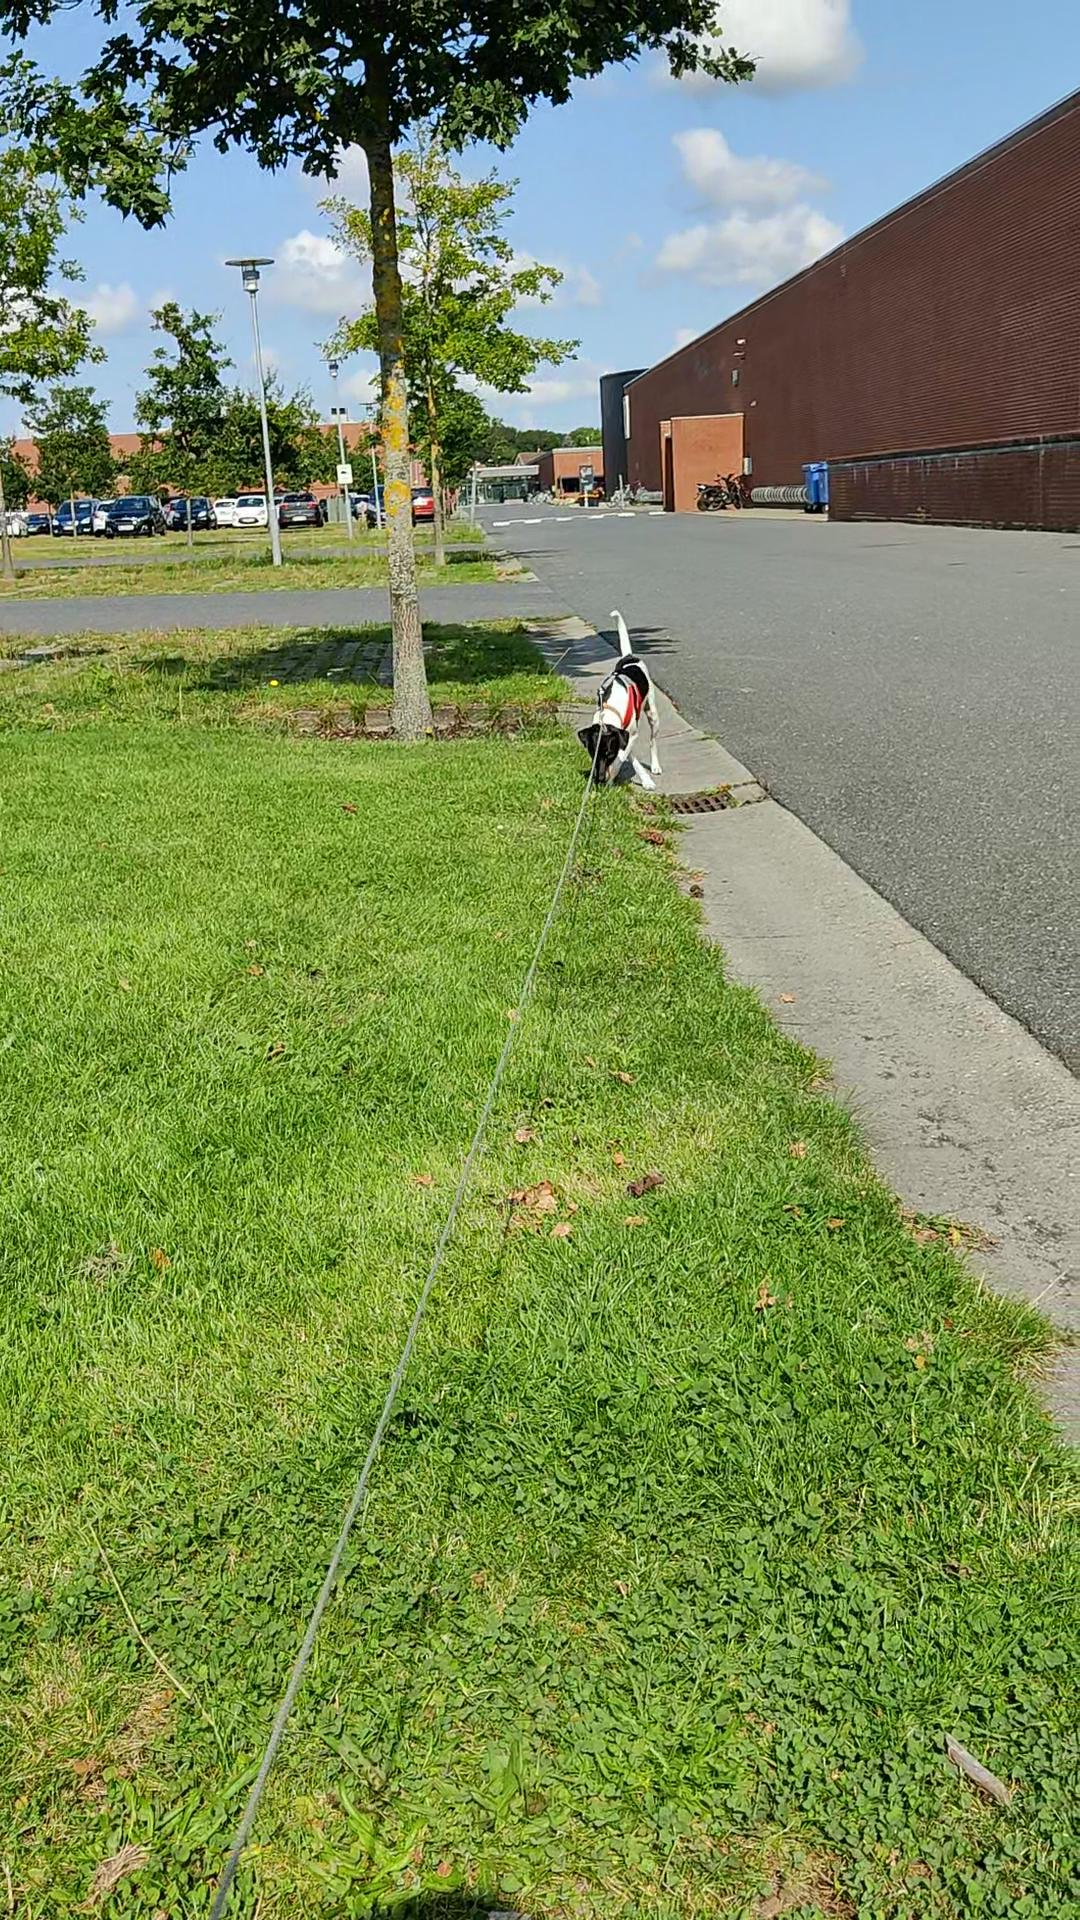Dog: (576, 607, 663, 793)
